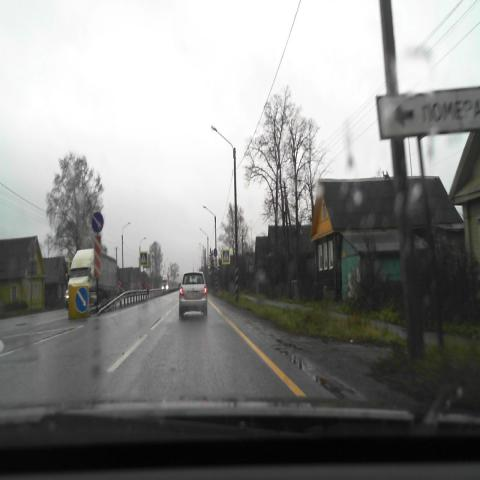4_2_1: (91, 211, 104, 233)
